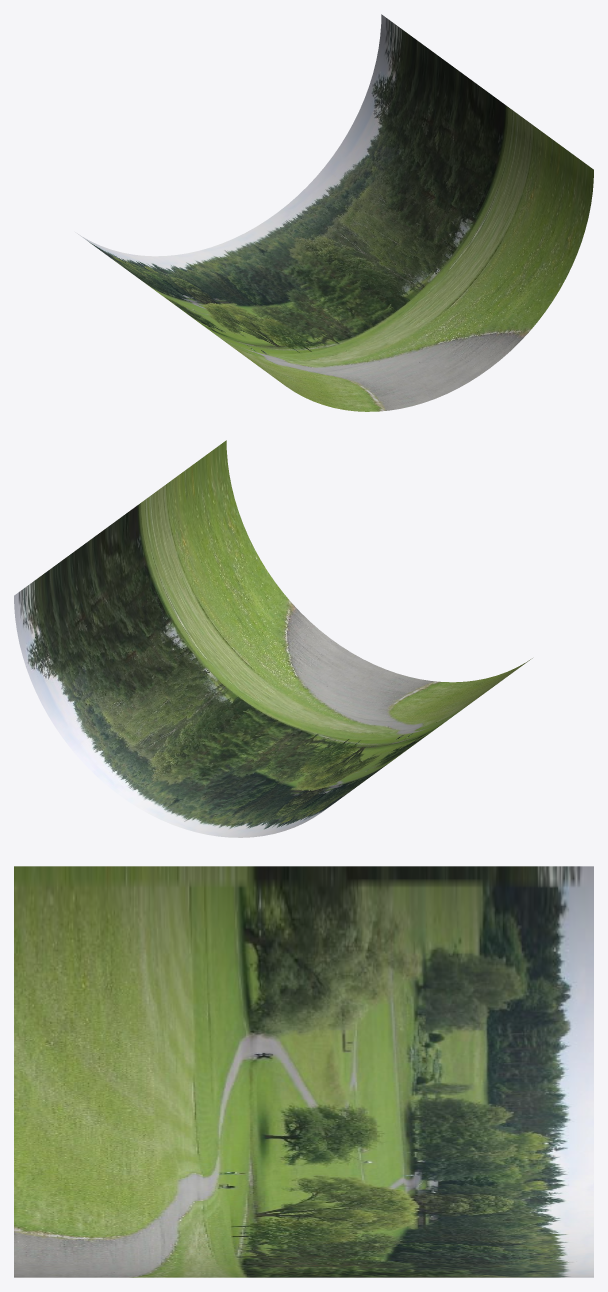
Rendered from leinwand_neu.glb.
3 renders of one model, top to bottom at view 1: azimuth 30°, elevation 25°; view 2: azimuth 150°, elevation 25°; view 3: azimuth 270°, elevation 25°, orthographic. The views are drawn at different scales.
Parts seen in each view (by area): view 1: Komponente#2; view 2: Komponente#2; view 3: Komponente#2.
Part boxes in pixels (left/top/right/bottom): Komponente#2: left=75, top=14, right=593, bottom=411; Komponente#2: left=14, top=440, right=532, bottom=837; Komponente#2: left=14, top=866, right=593, bottom=1277.
Size of the model in its own units: 4.44 by 2.22 by 4.45.
1 material, 1 textured.
